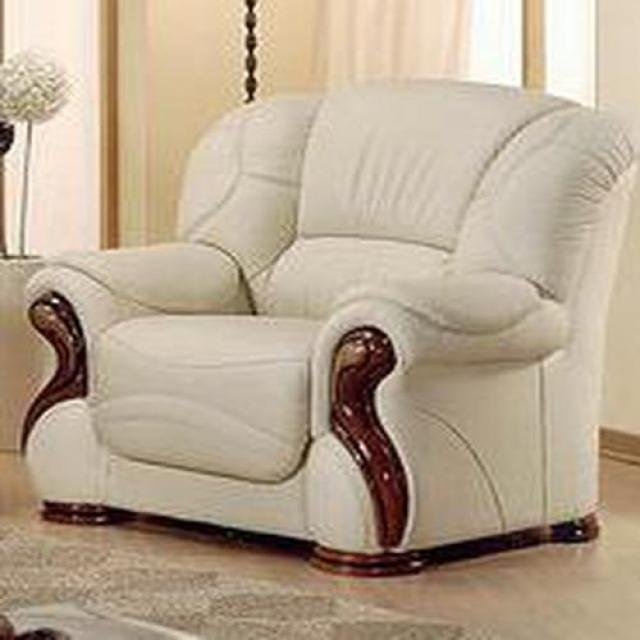sofa: (20, 79, 640, 580)
